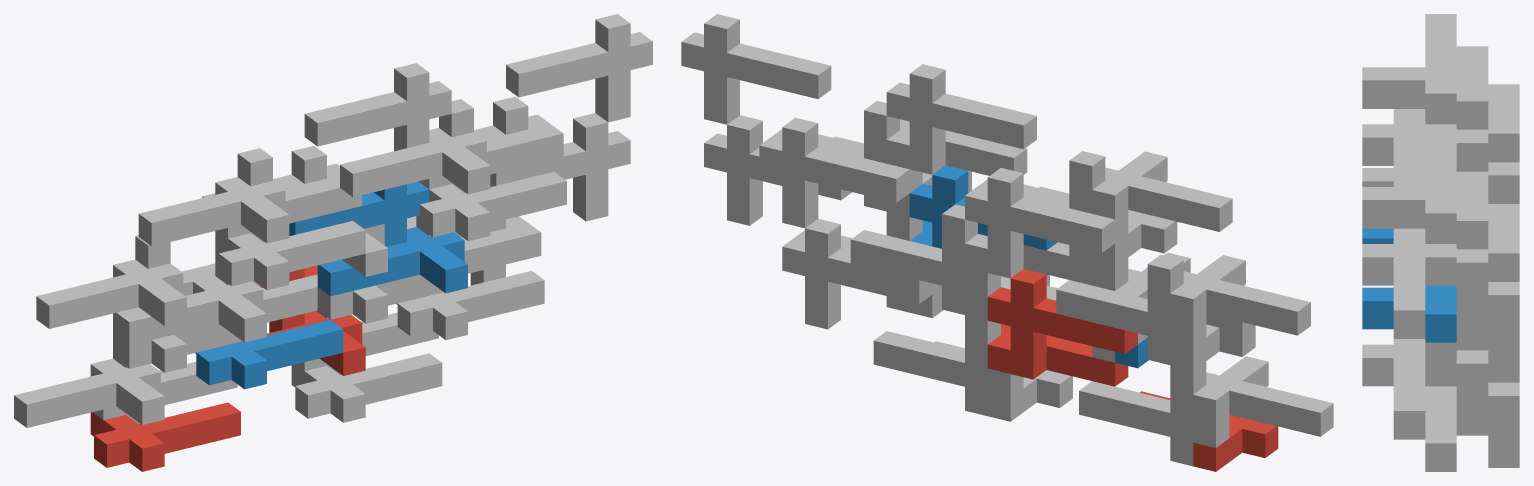
The model's file is tiling.obj.
The picture shows the model from 3 angles, left to right: view 1: azimuth 30°, elevation 25°; view 2: azimuth 150°, elevation 25°; view 3: azimuth 270°, elevation 25°; orthographic projection. The views are drawn at different scales.
Parts seen in each view (by area): view 1: copy_4_domain_8, copy_4_domain_4, copy_2_domain_4, copy_2_domain_3, copy_2_domain_1, copy_2_domain_8, copy_1_domain_4, copy_1_domain_5, copy_1_domain_1, copy_1_domain_8, copy_4_domain_6, copy_2_domain_2 (+19 smaller); view 2: copy_4_domain_4, copy_4_domain_7, copy_4_domain_3, copy_4_domain_8, copy_3_domain_3, copy_4_domain_1, copy_3_domain_1, copy_4_domain_5, copy_3_domain_7, copy_3_domain_5, copy_2_domain_4, copy_2_domain_3 (+16 smaller); view 3: copy_1_domain_8, copy_2_domain_4, copy_2_domain_8, copy_1_domain_6, copy_4_domain_8, copy_4_domain_7, copy_1_domain_4, copy_4_domain_4, copy_4_domain_3, copy_4_domain_6, copy_2_domain_6, copy_4_domain_5 (+9 smaller).
Part boxes in pixels (x1,y1,x2,y2): copy_4_domain_8: [506, 14, 652, 122]; copy_4_domain_4: [304, 63, 451, 151]; copy_2_domain_4: [138, 177, 289, 246]; copy_2_domain_3: [36, 259, 186, 328]; copy_2_domain_1: [14, 358, 164, 427]; copy_2_domain_8: [340, 128, 490, 197]; copy_1_domain_4: [215, 221, 365, 290]; copy_1_domain_5: [291, 353, 442, 422]; copy_1_domain_1: [90, 402, 240, 471]; copy_1_domain_8: [420, 172, 566, 241]; copy_4_domain_6: [490, 113, 630, 221]; copy_2_domain_2: [116, 276, 266, 345]; copy_4_domain_4: [886, 64, 1036, 174]; copy_4_domain_7: [759, 117, 909, 228]; copy_4_domain_3: [965, 168, 1114, 278]; copy_4_domain_8: [681, 14, 831, 124]; copy_3_domain_3: [1056, 254, 1206, 364]; copy_4_domain_1: [987, 269, 1137, 379]; copy_3_domain_1: [1079, 361, 1229, 466]; copy_4_domain_5: [782, 218, 932, 329]; copy_3_domain_7: [850, 204, 1000, 314]; copy_3_domain_5: [873, 315, 1023, 415]; copy_2_domain_4: [1092, 151, 1232, 231]; copy_2_domain_3: [1170, 255, 1310, 335]; copy_1_domain_8: [1362, 230, 1456, 338]; copy_2_domain_4: [1362, 14, 1456, 122]; copy_2_domain_8: [1362, 133, 1456, 241]; copy_1_domain_6: [1362, 339, 1456, 439]; copy_4_domain_8: [1456, 183, 1488, 334]; copy_4_domain_7: [1488, 215, 1519, 367]; copy_1_domain_4: [1362, 111, 1456, 186]; copy_4_domain_4: [1456, 63, 1488, 171]; copy_4_domain_3: [1488, 95, 1519, 203]; copy_4_domain_6: [1456, 335, 1488, 435]; copy_2_domain_6: [1362, 285, 1456, 342]; copy_4_domain_5: [1488, 367, 1519, 467].
Bounding box in the file's own units: 28 × 13 × 5.
